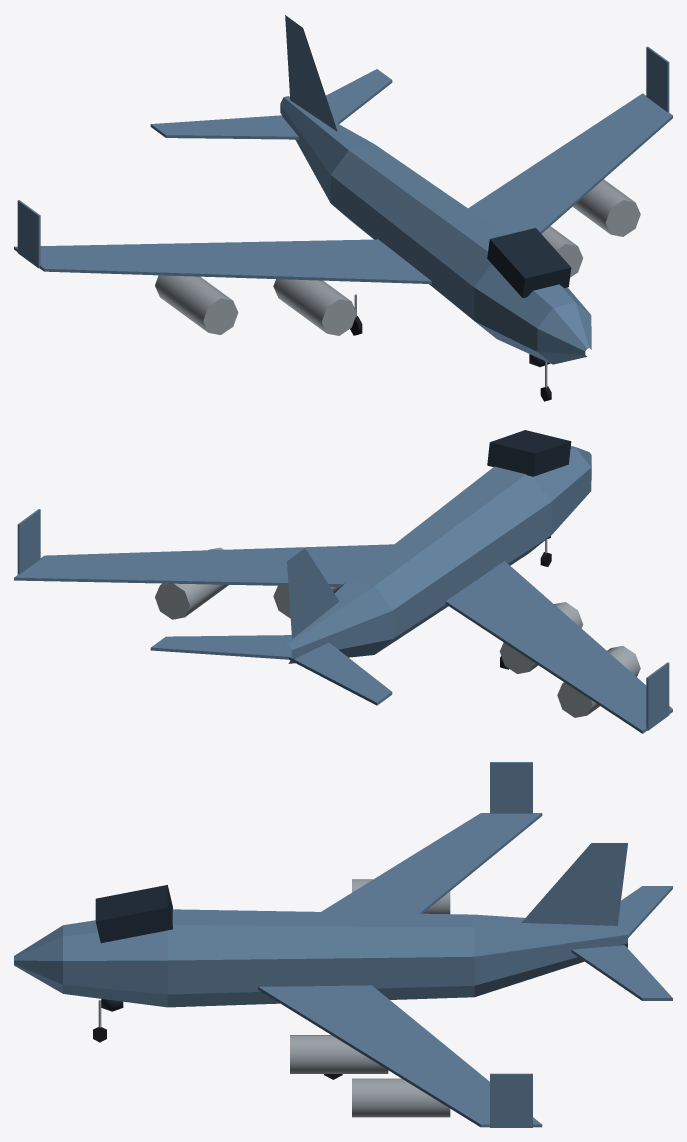
The model's file is veh_air_airliner_a10.glb.
3 renders of one model, top to bottom at view 1: azimuth 30°, elevation 25°; view 2: azimuth 150°, elevation 25°; view 3: azimuth 270°, elevation 25°, orthographic.
Parts seen in each view (by area): view 1: body; view 2: body; view 3: body.
Boxes of the visible parts, <box> form: body: <box>14,15,672,367</box>; body: <box>14,430,672,733</box>; body: <box>14,762,672,1127</box>.
Size of what is drawn, in the model's own units: 27.68 by 8.22 by 24.68.
